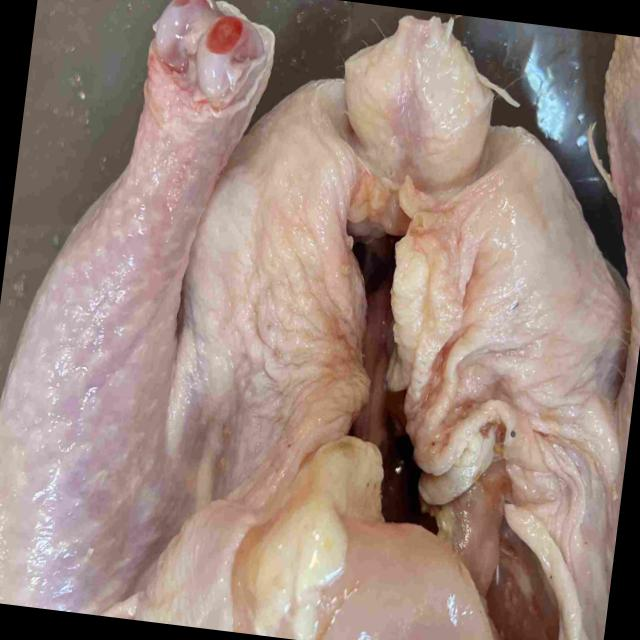breast: (129, 501, 490, 640)
leg: (0, 0, 276, 619), (599, 35, 640, 640)
